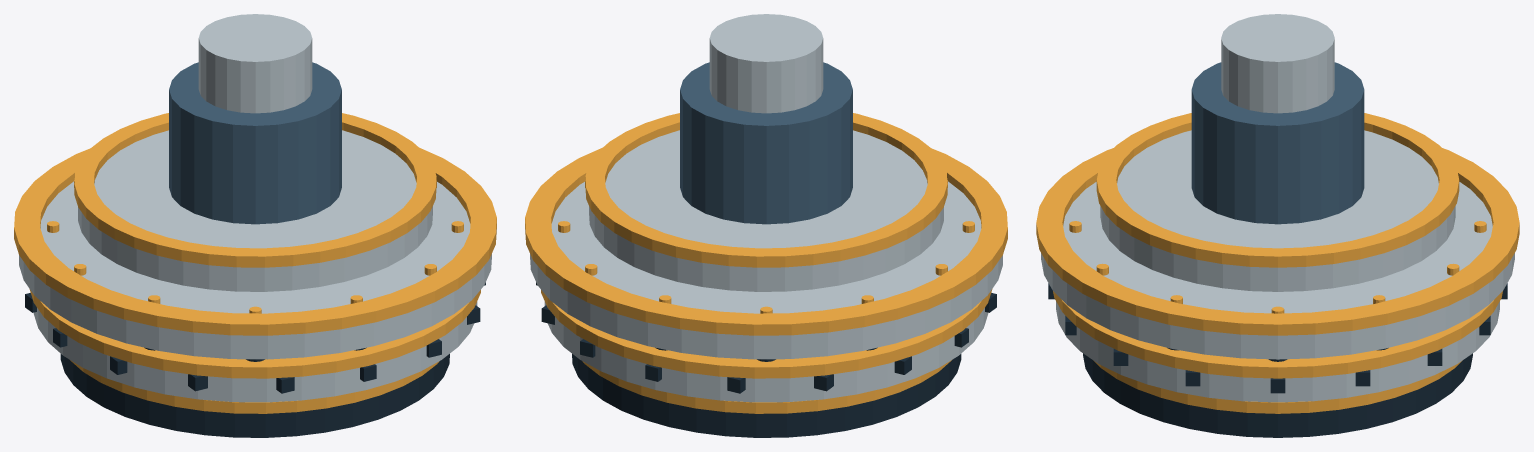
Rendered from 11_L77_BulkWaferCarrierHead.fbx.
3 renders of one model, left to right at view 1: azimuth 30°, elevation 25°; view 2: azimuth 150°, elevation 25°; view 3: azimuth 270°, elevation 25°, orthographic.
Parts seen in each view (by area): view 1: BulkWaferCarrierHead_Part_0006, BulkWaferCarrierHead_Part_0004, BulkWaferCarrierHead_Part_0008, BulkWaferCarrierHead_Part_0005, BulkWaferCarrierHead_Part_0007, BulkWaferCarrierHead_Part_0009, BulkWaferCarrierHead_Part_0000, BulkWaferCarrierHead_Part_0002, BulkWaferCarrierHead_Part_0003, BulkWaferCarrierHead_Part_0001; view 2: BulkWaferCarrierHead_Part_0006, BulkWaferCarrierHead_Part_0004, BulkWaferCarrierHead_Part_0008, BulkWaferCarrierHead_Part_0005, BulkWaferCarrierHead_Part_0007, BulkWaferCarrierHead_Part_0009, BulkWaferCarrierHead_Part_0000, BulkWaferCarrierHead_Part_0002, BulkWaferCarrierHead_Part_0003, BulkWaferCarrierHead_Part_0001; view 3: BulkWaferCarrierHead_Part_0006, BulkWaferCarrierHead_Part_0004, BulkWaferCarrierHead_Part_0008, BulkWaferCarrierHead_Part_0005, BulkWaferCarrierHead_Part_0007, BulkWaferCarrierHead_Part_0009, BulkWaferCarrierHead_Part_0000, BulkWaferCarrierHead_Part_0002, BulkWaferCarrierHead_Part_0003, BulkWaferCarrierHead_Part_0001.
Part boxes in pixels (left/top/right/bottom): BulkWaferCarrierHead_Part_0006: left=78, top=130, right=432, bottom=291; BulkWaferCarrierHead_Part_0004: left=19, top=181, right=491, bottom=359; BulkWaferCarrierHead_Part_0008: left=169, top=62, right=341, bottom=224; BulkWaferCarrierHead_Part_0005: left=14, top=147, right=496, bottom=335; BulkWaferCarrierHead_Part_0007: left=74, top=113, right=436, bottom=267; BulkWaferCarrierHead_Part_0009: left=198, top=14, right=312, bottom=113; BulkWaferCarrierHead_Part_0000: left=60, top=354, right=449, bottom=437; BulkWaferCarrierHead_Part_0002: left=33, top=301, right=477, bottom=402; BulkWaferCarrierHead_Part_0003: left=29, top=289, right=480, bottom=378; BulkWaferCarrierHead_Part_0001: left=70, top=360, right=439, bottom=413; BulkWaferCarrierHead_Part_0006: left=589, top=130, right=943, bottom=291; BulkWaferCarrierHead_Part_0004: left=530, top=181, right=1002, bottom=359; BulkWaferCarrierHead_Part_0008: left=680, top=62, right=852, bottom=224; BulkWaferCarrierHead_Part_0005: left=525, top=147, right=1007, bottom=335; BulkWaferCarrierHead_Part_0007: left=585, top=113, right=947, bottom=267; BulkWaferCarrierHead_Part_0009: left=709, top=14, right=823, bottom=113; BulkWaferCarrierHead_Part_0000: left=572, top=354, right=961, bottom=437; BulkWaferCarrierHead_Part_0002: left=544, top=301, right=988, bottom=402; BulkWaferCarrierHead_Part_0003: left=541, top=289, right=992, bottom=378; BulkWaferCarrierHead_Part_0001: left=582, top=360, right=951, bottom=413; BulkWaferCarrierHead_Part_0006: left=1100, top=130, right=1455, bottom=291; BulkWaferCarrierHead_Part_0004: left=1041, top=182, right=1514, bottom=359; BulkWaferCarrierHead_Part_0008: left=1191, top=62, right=1364, bottom=224; BulkWaferCarrierHead_Part_0005: left=1036, top=148, right=1519, bottom=335; BulkWaferCarrierHead_Part_0007: left=1096, top=113, right=1459, bottom=267; BulkWaferCarrierHead_Part_0009: left=1221, top=14, right=1334, bottom=113; BulkWaferCarrierHead_Part_0000: left=1083, top=353, right=1472, bottom=437; BulkWaferCarrierHead_Part_0002: left=1056, top=301, right=1499, bottom=402; BulkWaferCarrierHead_Part_0003: left=1053, top=291, right=1502, bottom=378; BulkWaferCarrierHead_Part_0001: left=1093, top=360, right=1462, bottom=413.
Bounding box in the file's own units: 196 × 142 × 196.
